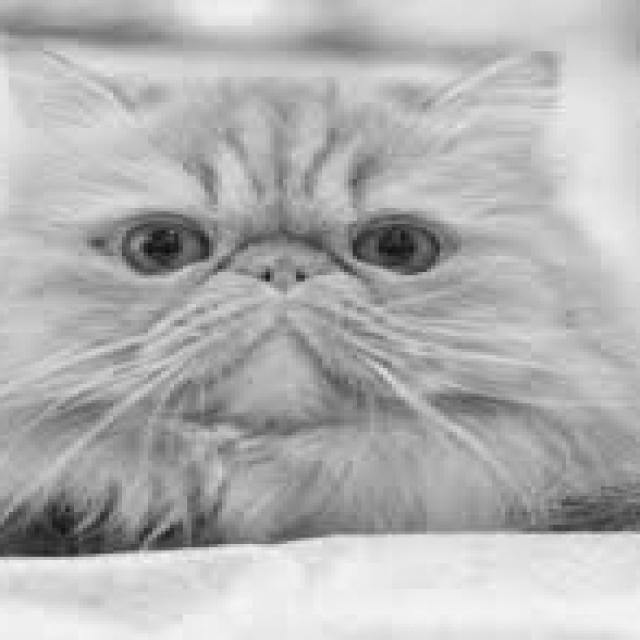iran: (0, 12, 596, 425)
